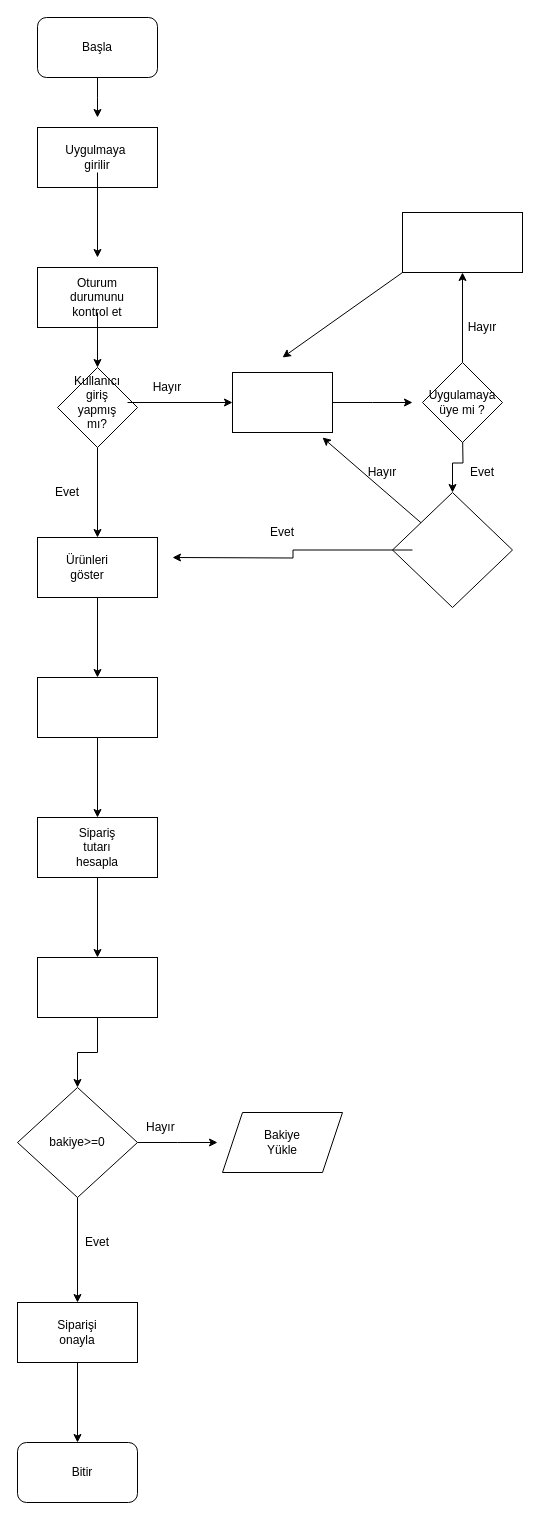
Some shapes in this 540 by 1520 pixel diagram are drawn without their labels. The shapes that lost their labels are listed below. From the top down, each one's centre as x and y in pixels, then its label:
At (x=462, y=242): "Üyelik oluştur".
At (x=282, y=402): "Login ekranına yönlendir".
At (x=452, y=550): "Kullanıcı adı şifre biligleri eşleşiyor mu ?".
At (x=97, y=707): "Ürünleri seç, sepete ekle".
At (x=97, y=987): "bakiye=bakiye-sipariş tutarı".
